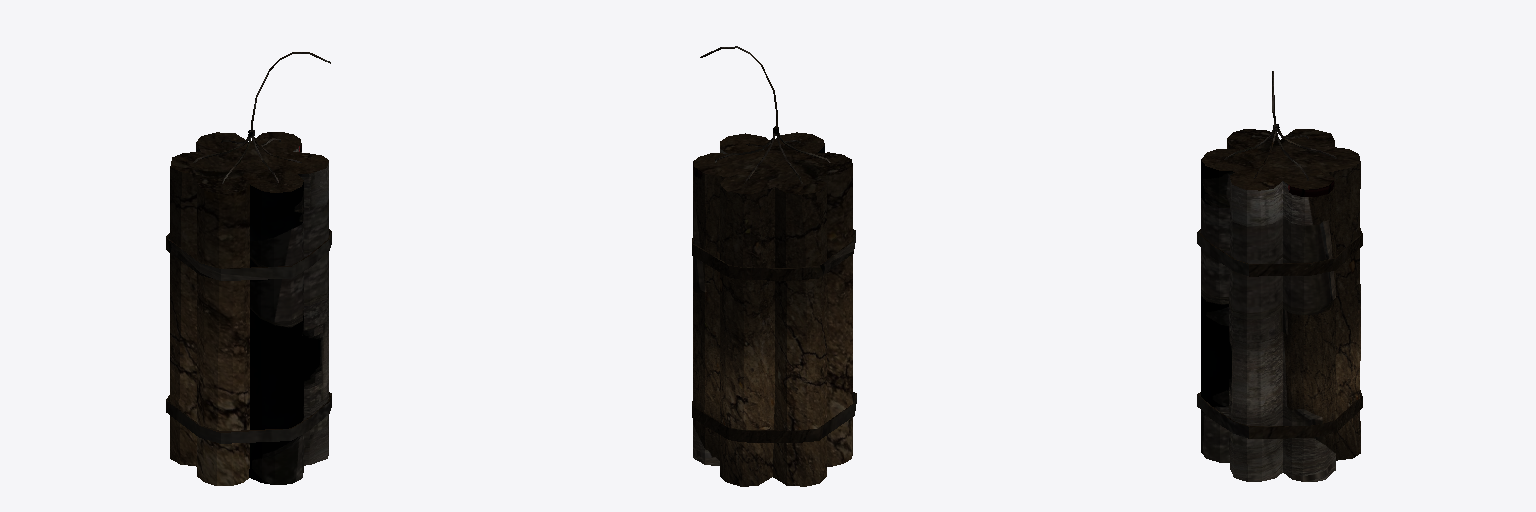
3 views of the same model, side by side, from view 1: azimuth 30°, elevation 25°; view 2: azimuth 150°, elevation 25°; view 3: azimuth 270°, elevation 25° (orthographic).
Parts seen in each view (by area): view 1: dynamite_Plane.001; view 2: dynamite_Plane.001; view 3: dynamite_Plane.001.
Part boxes in pixels (x1,y1,x2,y2): dynamite_Plane.001: (166, 52, 331, 485); dynamite_Plane.001: (692, 46, 856, 486); dynamite_Plane.001: (1197, 71, 1362, 481).
Size of the model in its own units: 1.02 by 2.71 by 1.02.
1 materials, 1 textured.